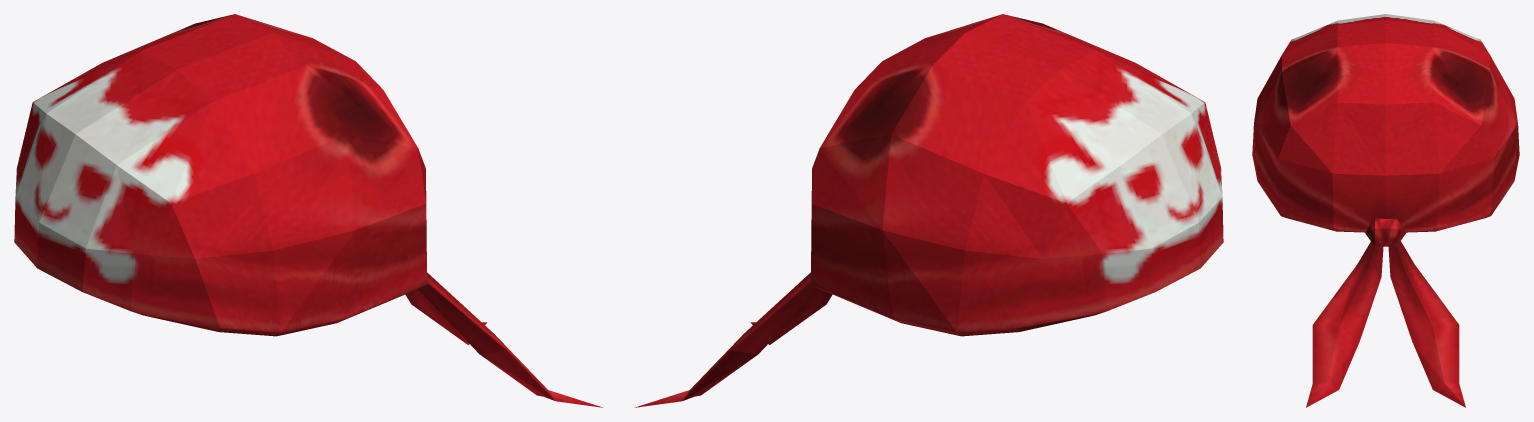
Rendered from Rabbit_pirateBandana.obj.
The picture shows the model from 3 angles, left to right: view 1: azimuth 30°, elevation 25°; view 2: azimuth 150°, elevation 25°; view 3: azimuth 270°, elevation 25°; orthographic projection. The views are drawn at different scales.
Parts seen in each view (by area): view 1: Rabbit_pirateBandana_tri; view 2: Rabbit_pirateBandana_tri; view 3: Rabbit_pirateBandana_tri.
Boxes of the visible parts, x1=… form: Rabbit_pirateBandana_tri: x1=14, y1=14, x2=603, y2=407; Rabbit_pirateBandana_tri: x1=634, y1=14, x2=1223, y2=407; Rabbit_pirateBandana_tri: x1=1252, y1=14, x2=1519, y2=407.
Bounding box in the file's own units: 0.3705 × 0.2779 × 0.2462.
Materials: 1 (1 with a texture image).
